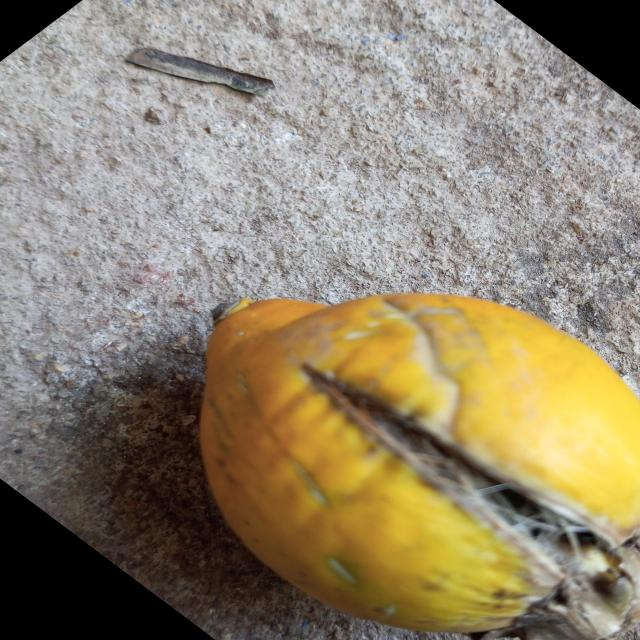damaged: (200, 294, 640, 640)
